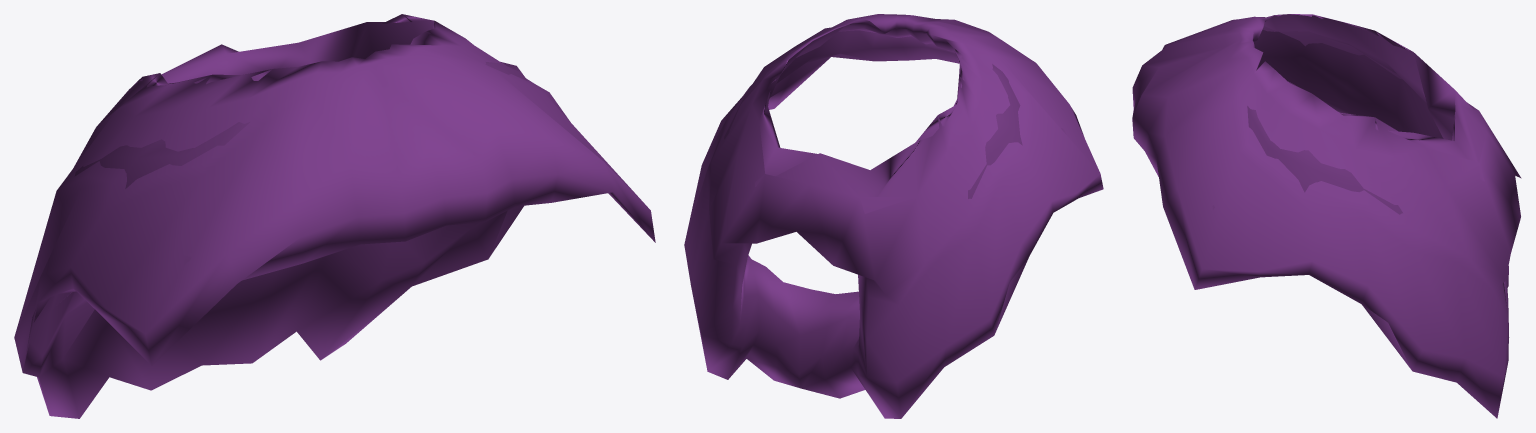
File: gorro_diadema.glb
3 renders of one model, left to right at view 1: azimuth 30°, elevation 25°; view 2: azimuth 150°, elevation 25°; view 3: azimuth 270°, elevation 25°, orthographic. The views are drawn at different scales.
Parts seen in each view (by area): view 1: pieza; view 2: pieza; view 3: pieza.
Part boxes in pixels (x1,y1,x2,y2): pieza: (14,14,655,418); pieza: (684,14,1103,418); pieza: (1132,14,1521,418).
Bounding box in the file's own units: 1.27 × 1.07 × 1.13.
